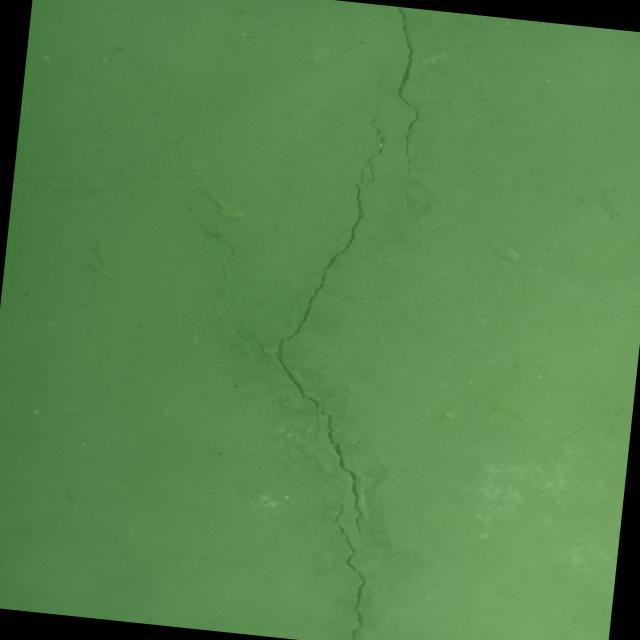crack: (190, 90, 409, 540), (45, 173, 242, 256), (375, 6, 431, 207), (319, 501, 377, 640)
